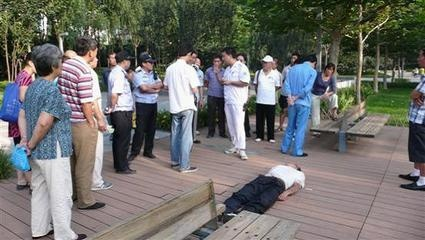falling: (213, 155, 311, 219)
